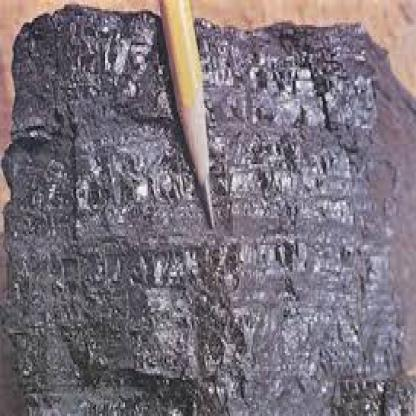Sedimentary_coal: (1, 6, 414, 414)
